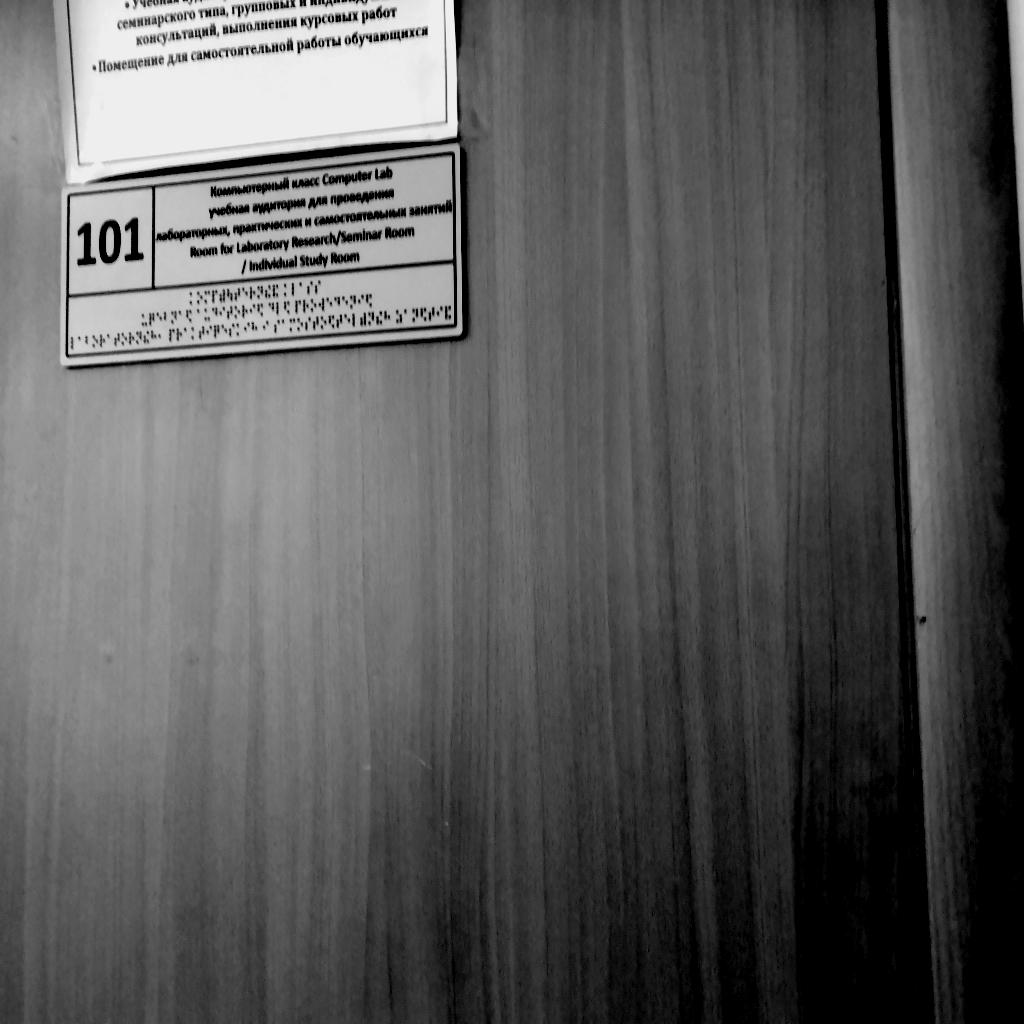_n: (349, 294, 356, 309), (257, 285, 264, 299), (171, 310, 178, 324), (368, 311, 375, 325), (412, 307, 418, 323), (136, 331, 142, 345)
_y: (204, 307, 211, 322), (141, 313, 148, 327)
a: (183, 327, 190, 340), (281, 319, 288, 332), (197, 308, 203, 323), (404, 308, 410, 323), (179, 310, 185, 324), (300, 282, 306, 295), (78, 336, 84, 349), (107, 333, 113, 346)
b: (164, 311, 170, 325), (85, 335, 91, 348)
ch: (149, 312, 155, 326), (214, 324, 220, 338)
d: (268, 301, 274, 316), (212, 307, 218, 321), (334, 296, 340, 310)
e: (326, 296, 333, 311), (157, 311, 163, 326), (342, 295, 348, 310), (344, 313, 350, 328), (221, 324, 227, 338), (242, 287, 248, 300)
i: (436, 305, 443, 321), (249, 303, 256, 318), (357, 294, 364, 309), (262, 320, 269, 334), (219, 306, 225, 320), (206, 325, 212, 339), (244, 322, 250, 336)
iKratkoe: (445, 305, 452, 320), (272, 284, 279, 297)
ii: (376, 311, 383, 325), (143, 330, 149, 344), (265, 285, 271, 298)
k: (189, 292, 196, 305), (283, 283, 290, 296), (191, 326, 197, 340), (237, 323, 243, 336)
l: (291, 282, 299, 297), (352, 312, 359, 327), (276, 302, 282, 316), (71, 337, 77, 350)
m: (289, 318, 296, 333), (204, 290, 210, 304)
myagkiy: (219, 288, 226, 302), (360, 312, 366, 327)
o: (310, 298, 317, 312), (320, 315, 327, 329), (196, 291, 203, 304), (297, 318, 303, 332), (234, 305, 240, 318), (92, 335, 98, 348), (122, 332, 128, 345)
p: (295, 299, 302, 314), (212, 290, 218, 303), (169, 328, 175, 341)
r: (99, 334, 106, 348), (242, 304, 248, 318), (303, 299, 309, 313), (129, 331, 135, 345), (177, 327, 183, 341), (250, 286, 256, 299)
s: (314, 280, 322, 294), (307, 281, 314, 295), (228, 323, 235, 337), (274, 319, 280, 333), (305, 317, 311, 331)
t: (428, 306, 435, 321), (226, 306, 233, 320), (336, 314, 343, 328), (114, 333, 120, 347), (199, 326, 205, 340), (313, 316, 319, 330), (235, 288, 241, 301)
u: (227, 288, 233, 302)
v: (318, 298, 325, 312)
x: (251, 321, 258, 335), (384, 310, 391, 324), (151, 329, 157, 343)
ya: (420, 306, 427, 322), (283, 300, 290, 315), (366, 294, 373, 309), (328, 314, 335, 329), (186, 309, 192, 323), (257, 303, 263, 317)
z: (396, 309, 403, 323)
zapyataya: (158, 330, 164, 343)
